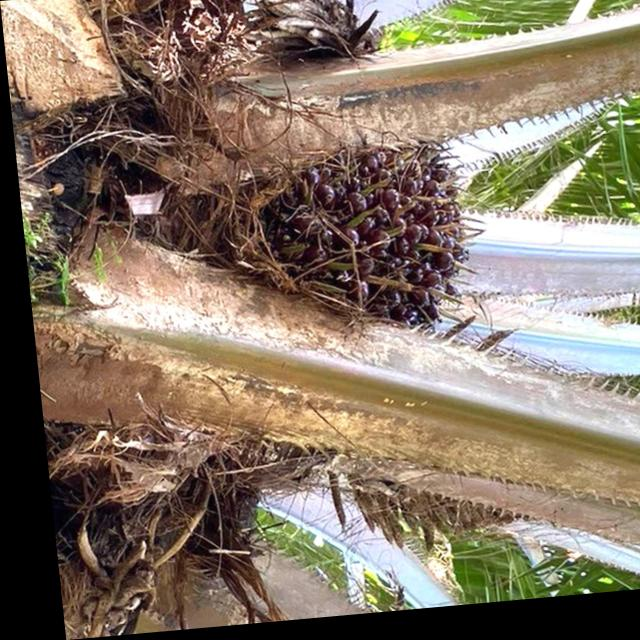ripe: (198, 124, 498, 362)
